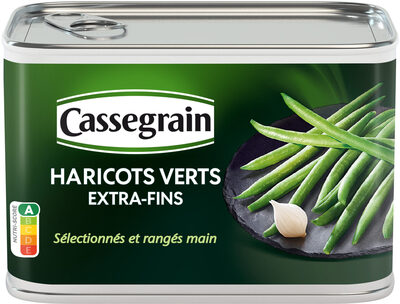Haricots Verts extra-fins 4/4: (20, 15, 380, 289)
